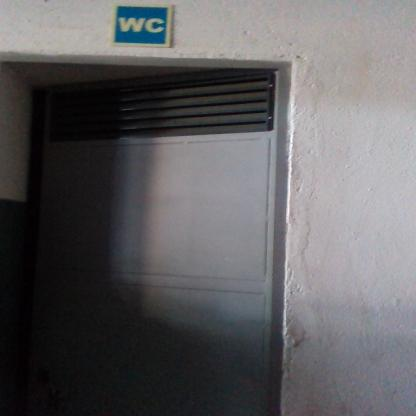semi: (0, 36, 318, 416)
